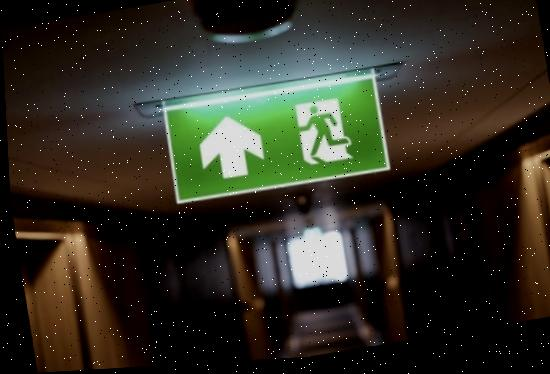emergency_exit: (161, 65, 392, 205)
